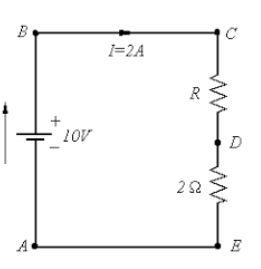Battery: (15, 111, 63, 161)
